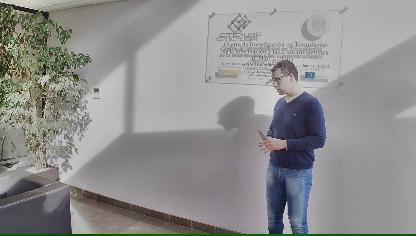knife: (256, 126, 270, 146)
